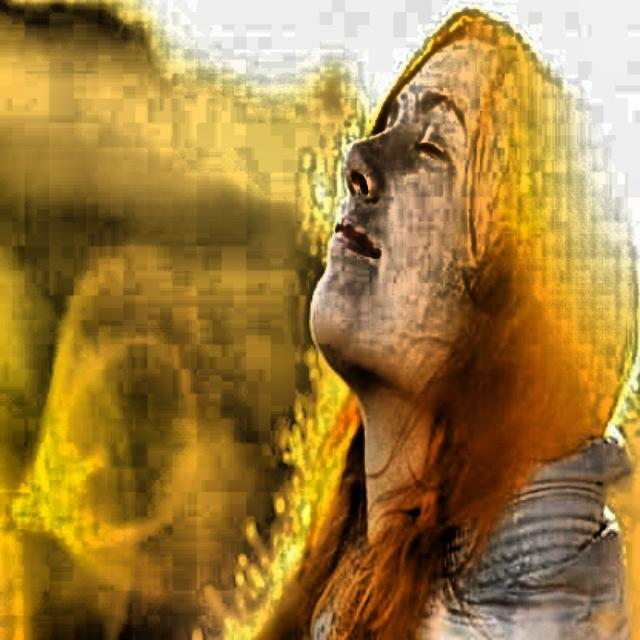happy: (302, 1, 640, 514)
